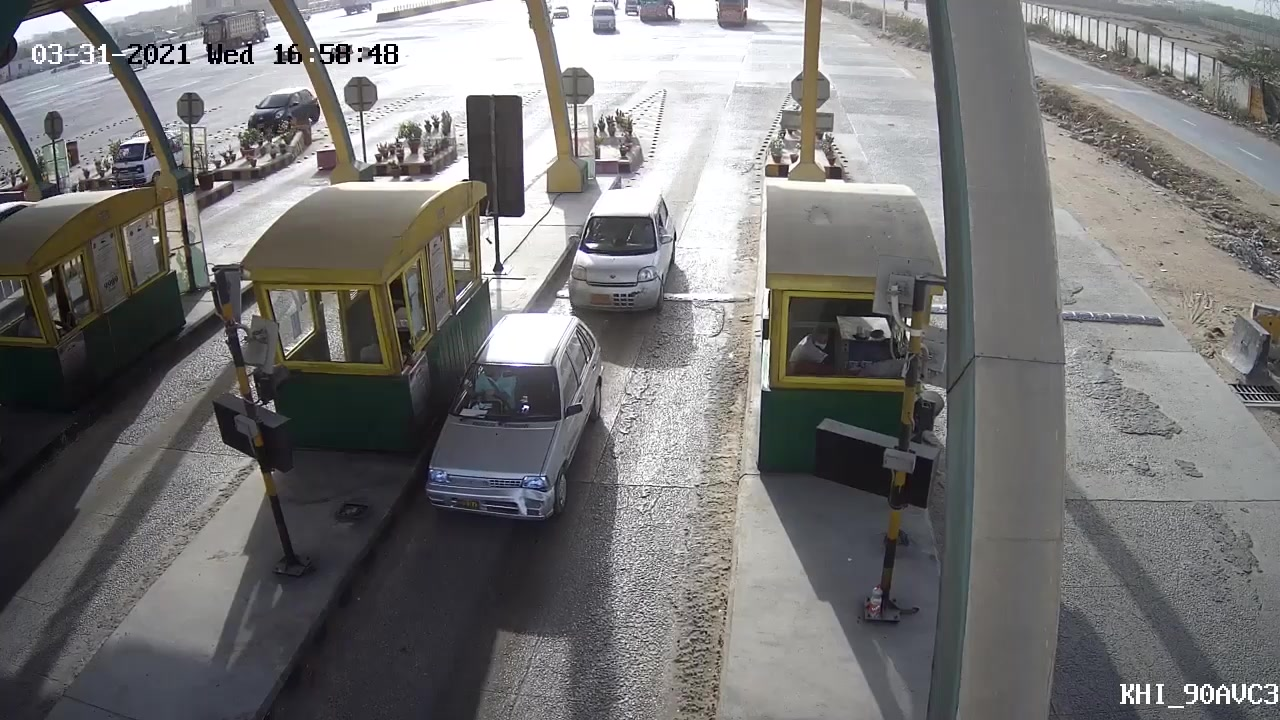F1: (414, 311, 607, 542), (559, 182, 686, 320)
